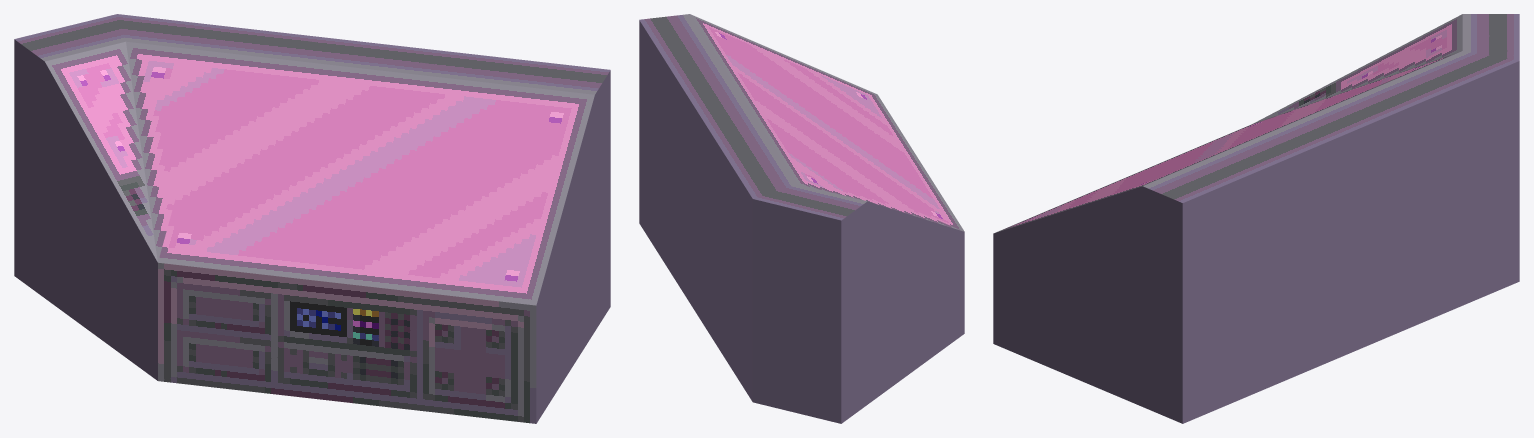
The model's file is console_corner.glb.
3 renders of one model, left to right at view 1: azimuth 30°, elevation 25°; view 2: azimuth 150°, elevation 25°; view 3: azimuth 270°, elevation 25°, orthographic. The views are drawn at different scales.
Parts seen in each view (by area): view 1: cube; view 2: cube; view 3: cube.
Part boxes in pixels (bbox=[...]): cube: bbox=[14, 14, 610, 423]; cube: bbox=[639, 14, 964, 423]; cube: bbox=[993, 14, 1519, 423].
Bounding box in the file's own units: 4.6 × 2.5 × 5.4.
Materials: 1 (1 with a texture image).
